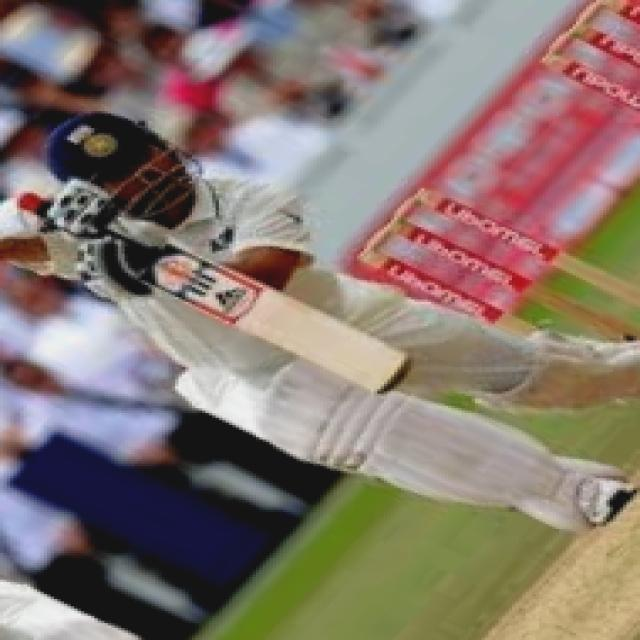toe: (312, 323, 412, 402)
